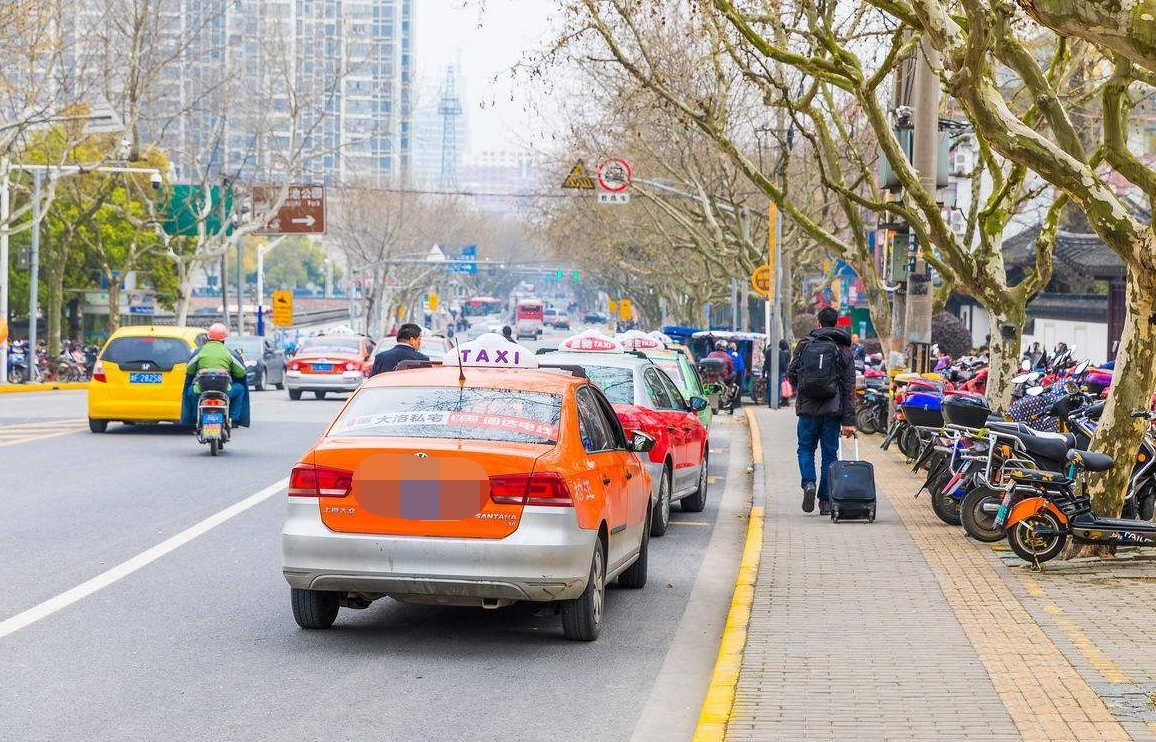family sedan: (79, 317, 206, 428)
motor: (986, 412, 1156, 566), (180, 326, 256, 447)
taxi: (277, 350, 663, 642), (273, 329, 372, 391)
